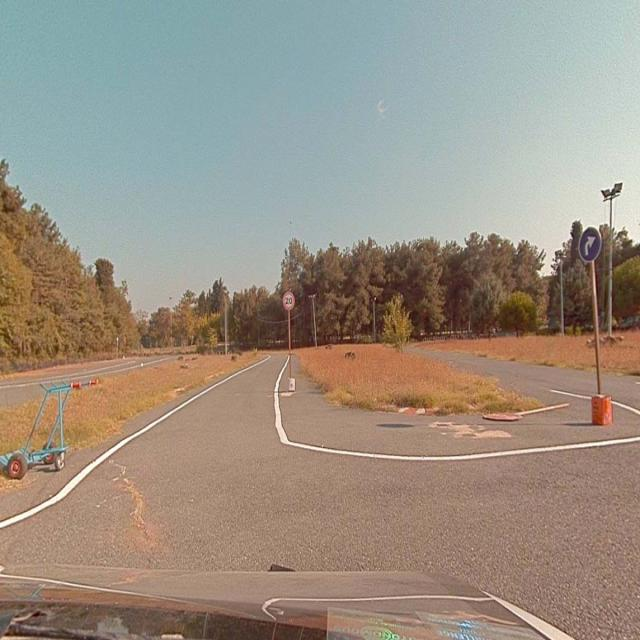20: (283, 292, 294, 310)
sag: (578, 228, 601, 260)
